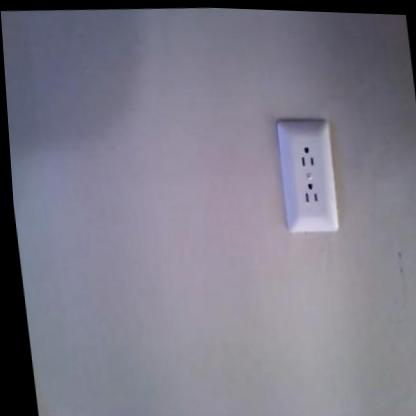OUTLET: (274, 115, 342, 236)
